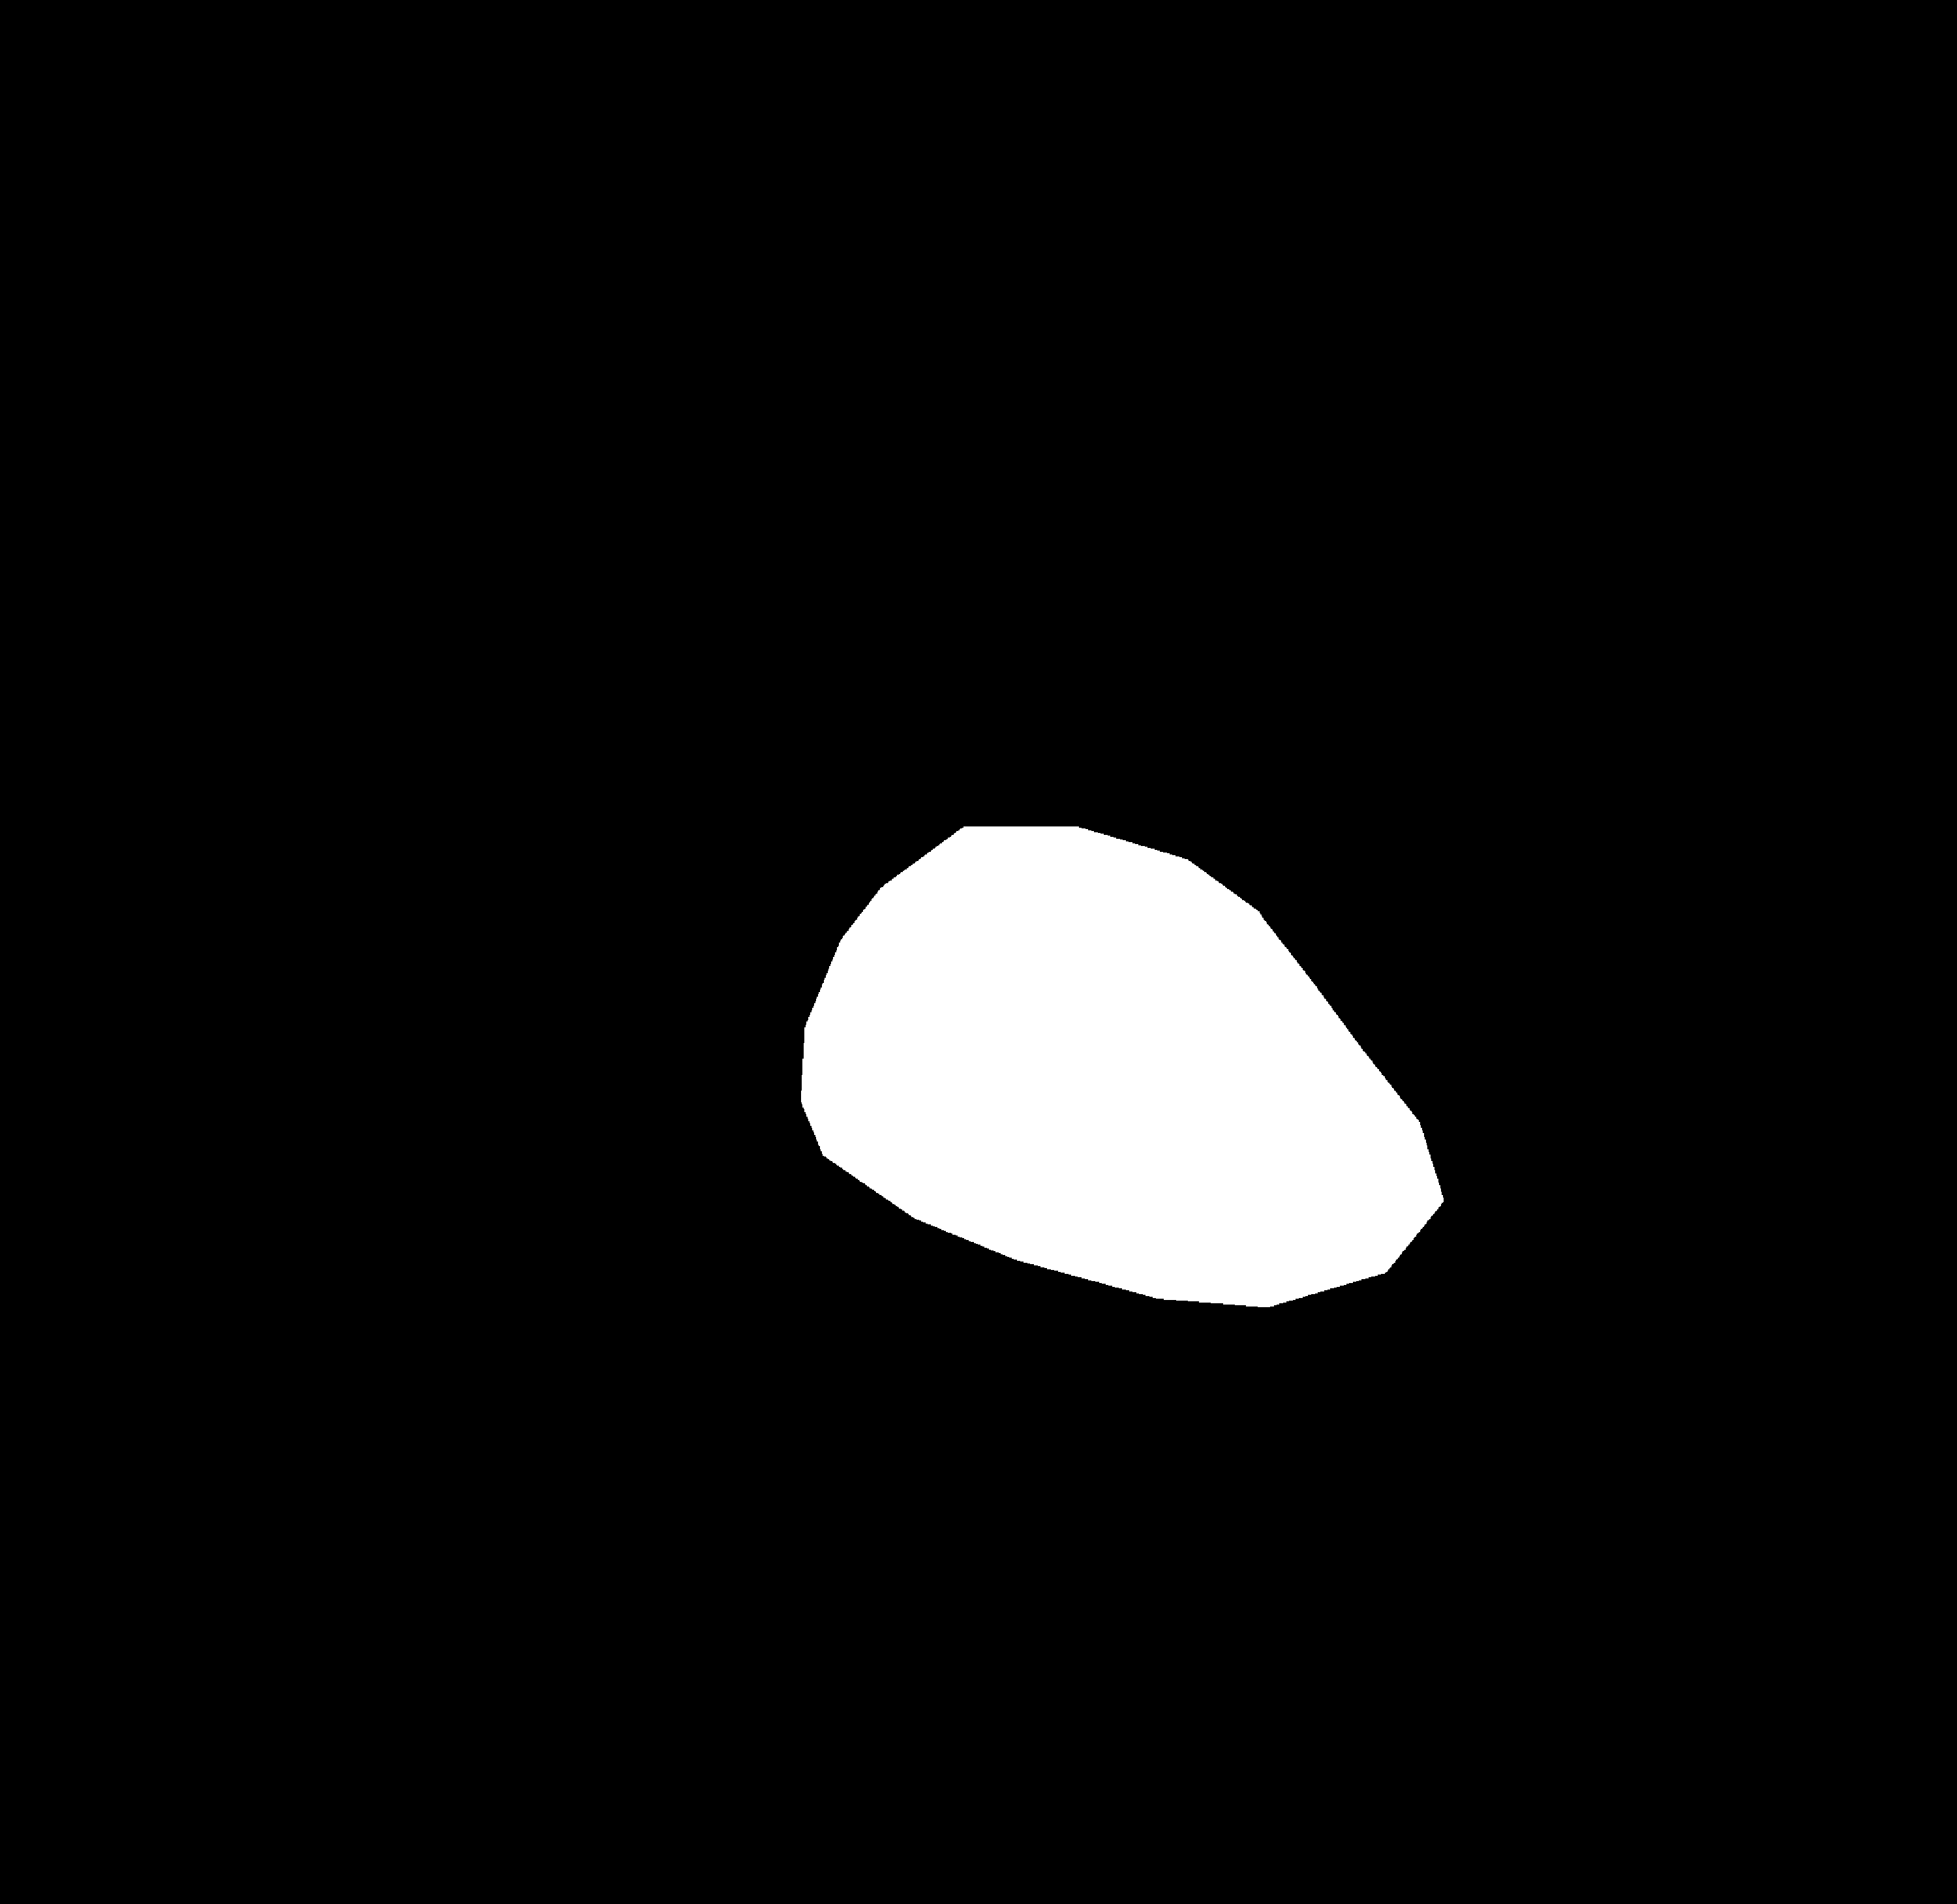heart: (799, 894, 1468, 1312)
left_lung: (344, 283, 959, 1265)
right_lung: (1082, 292, 1641, 1312)
